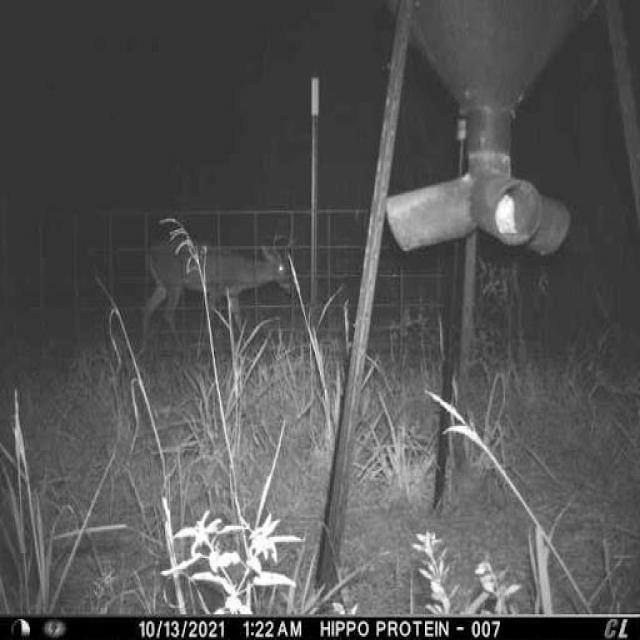Deer: (137, 219, 315, 355)
